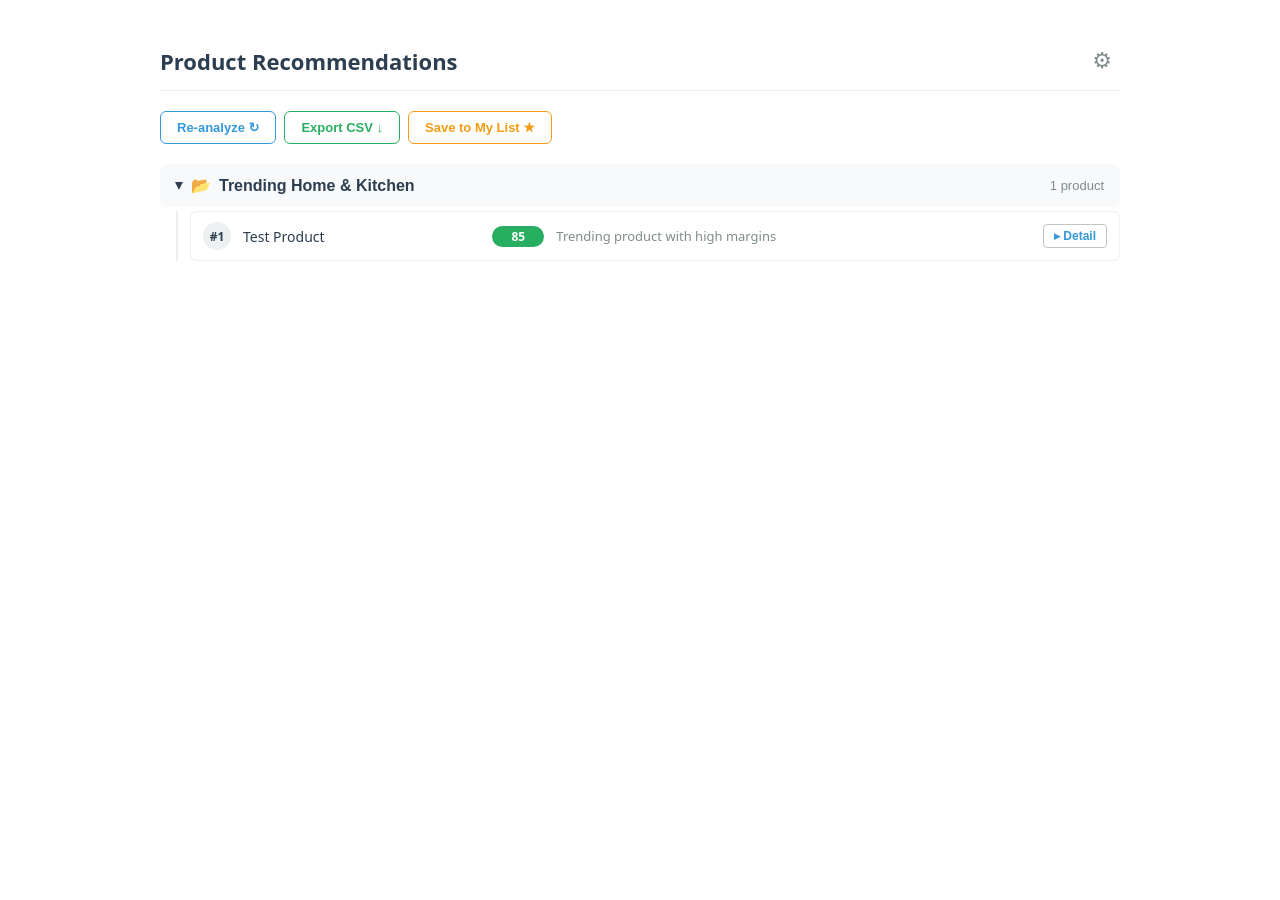
R-13: Save to My List › AC-2: toast shows "Saved!" after save
Click the button with test id "save-to-list-button" at [480, 128], box [408,111,552,144]
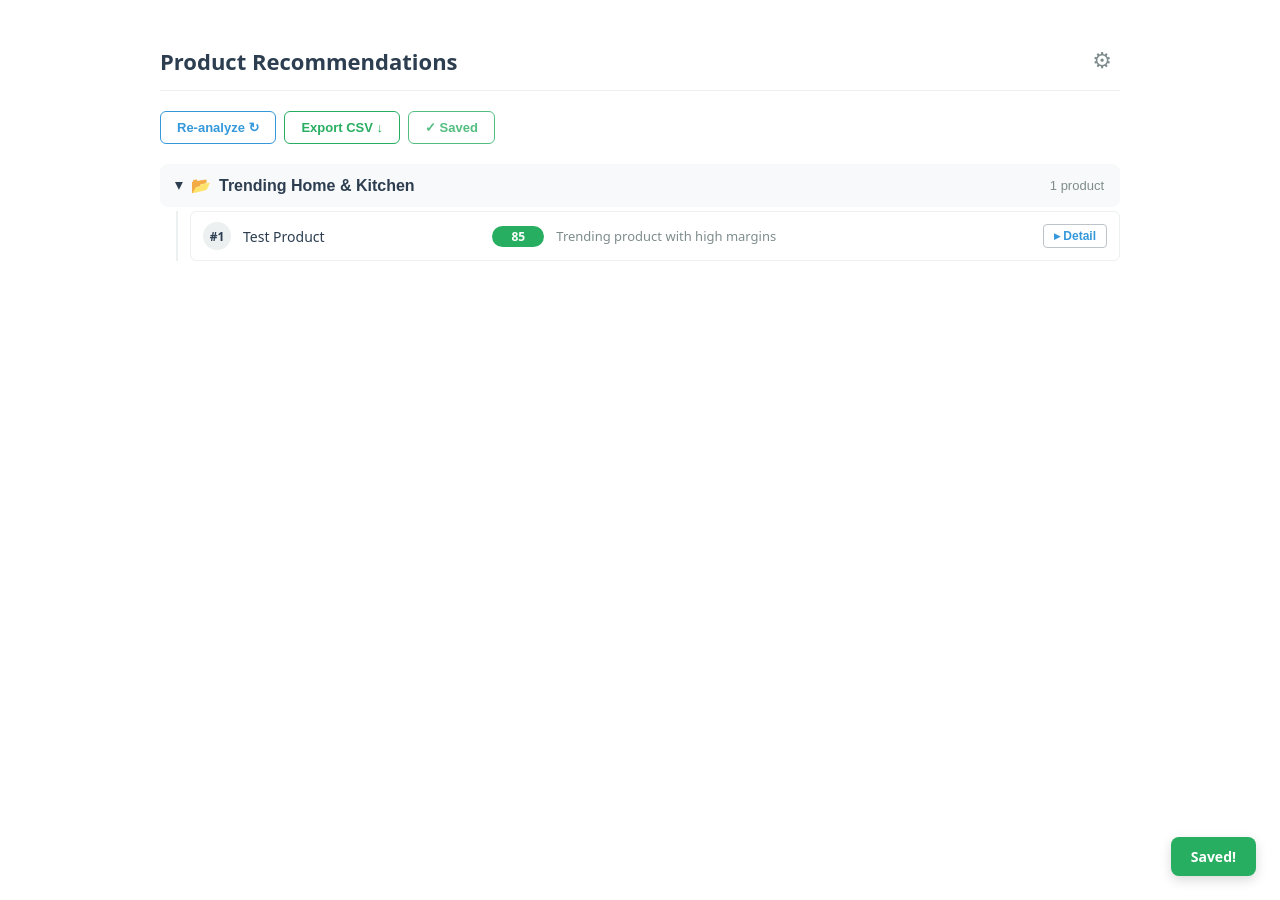
Now the text "Saved!" is shown, box [1171,837,1256,876]
Now the text with test id "save-toast" reads "Saved!", box [1191,847,1236,866]
